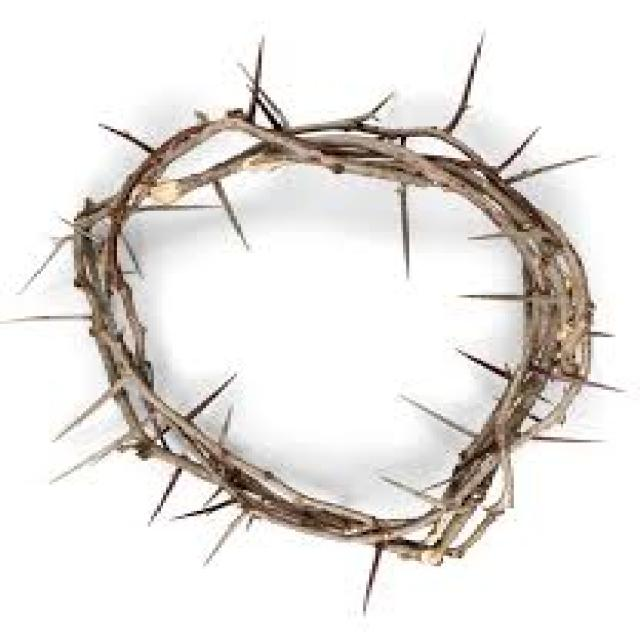crown: (28, 55, 612, 617)
